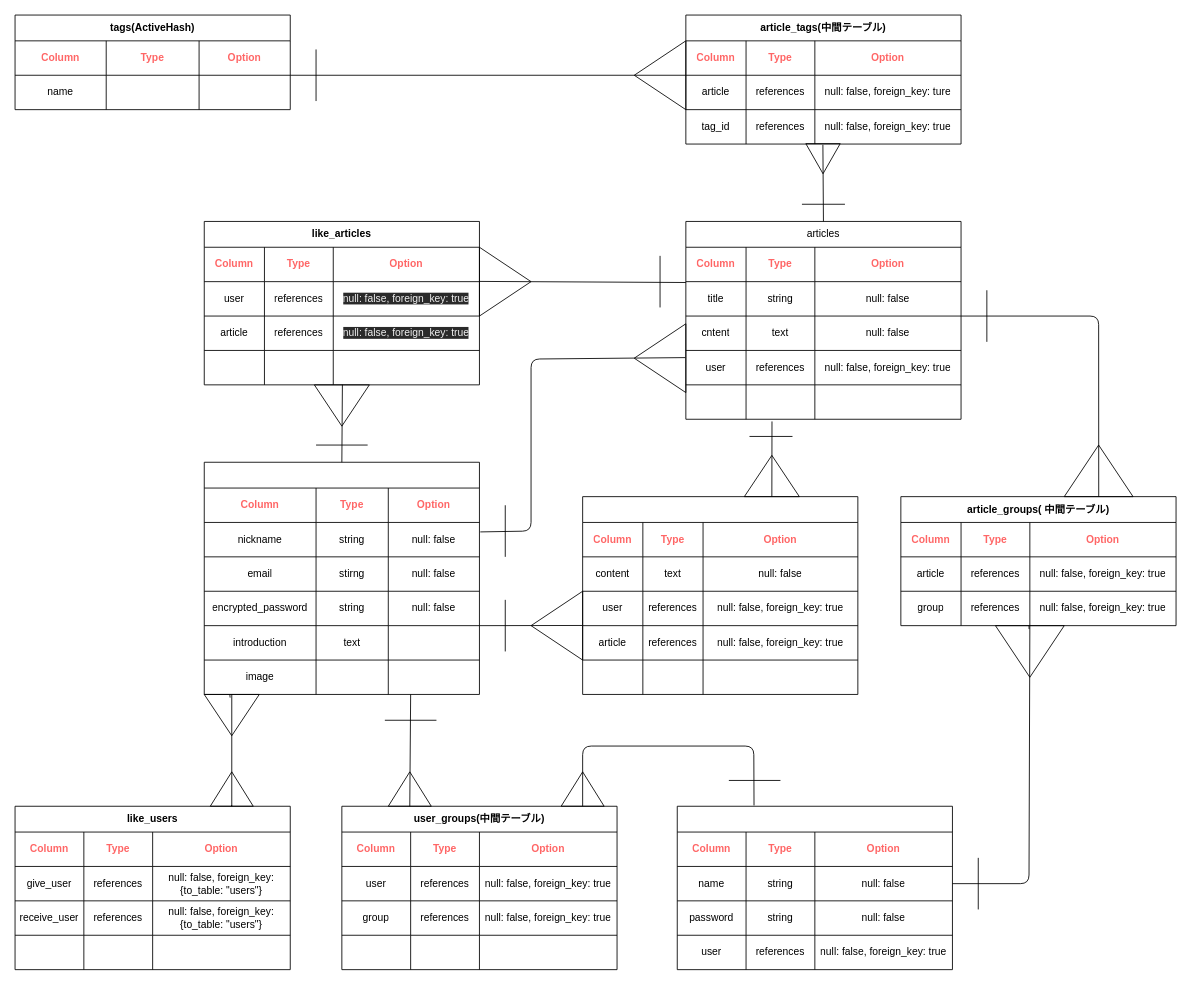
The diagram is 1191 pixels wide and 985 high, and some of its shapes have lost their labels. The box of each missing label's shape, as (x1, y1, x2, y2) in pixels:
comments: (582, 496, 858, 694)
groups: (676, 805, 952, 970)
users: (203, 461, 479, 694)
